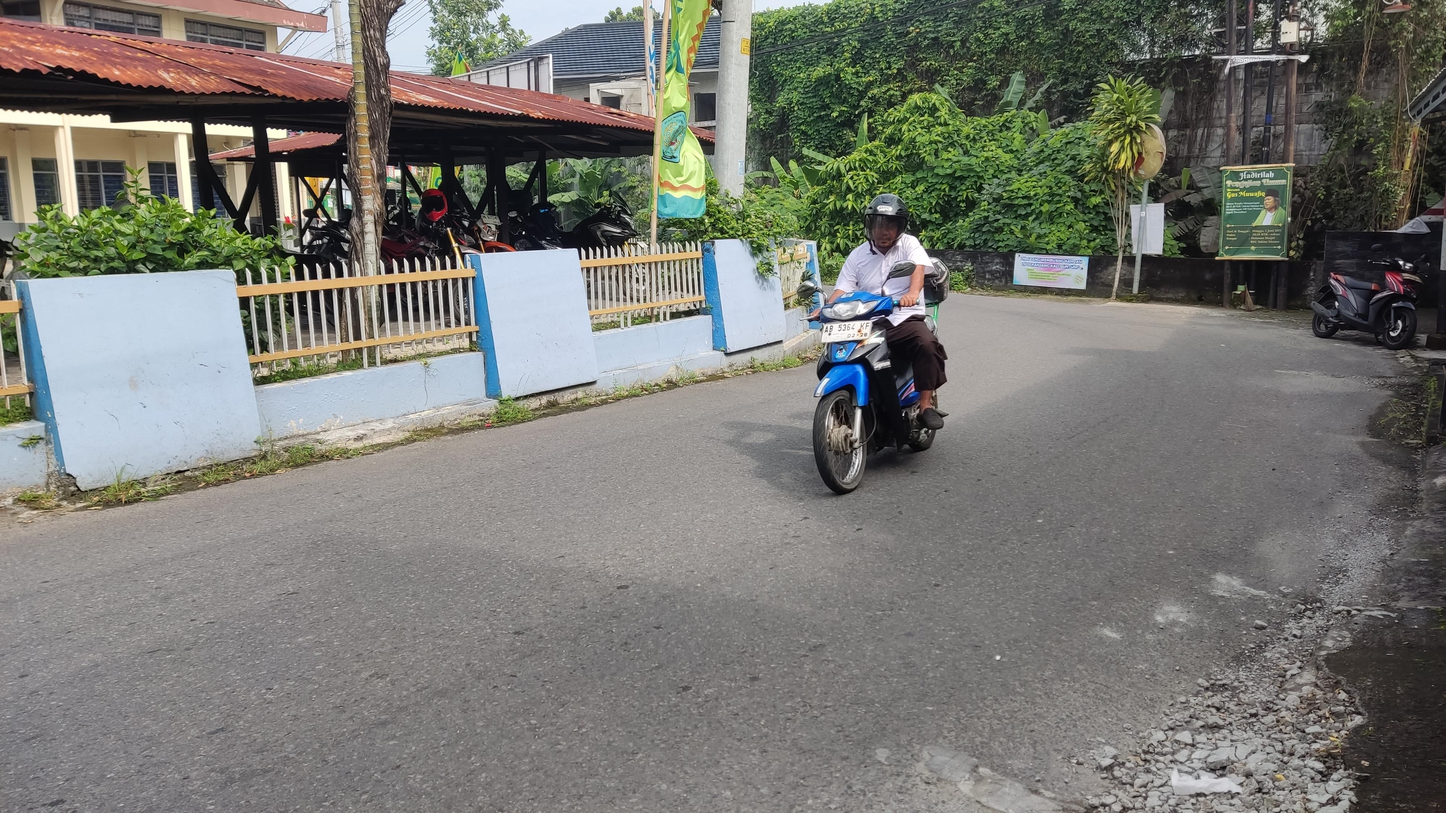helm: (863, 185, 913, 255)
riding: (790, 179, 960, 508)
